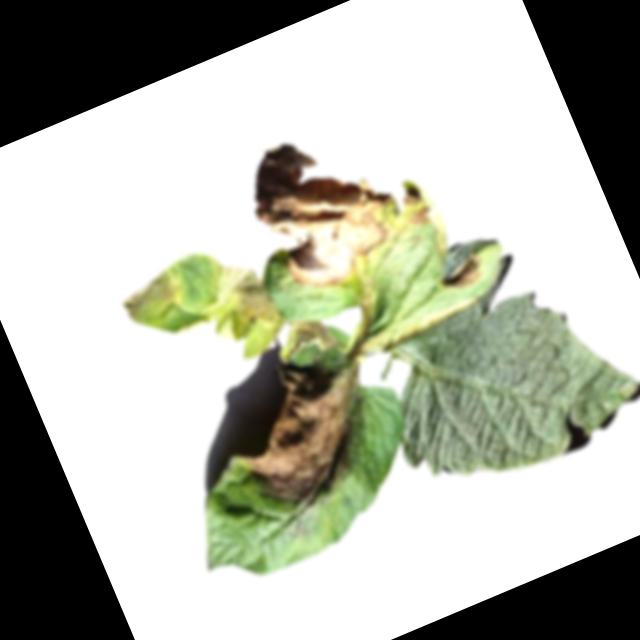Late_blight: (232, 111, 416, 304), (212, 339, 401, 525), (202, 255, 283, 344), (114, 265, 187, 329), (271, 308, 345, 370), (435, 251, 489, 296), (396, 182, 427, 210), (405, 205, 435, 232)
healthy: (358, 257, 640, 513)
